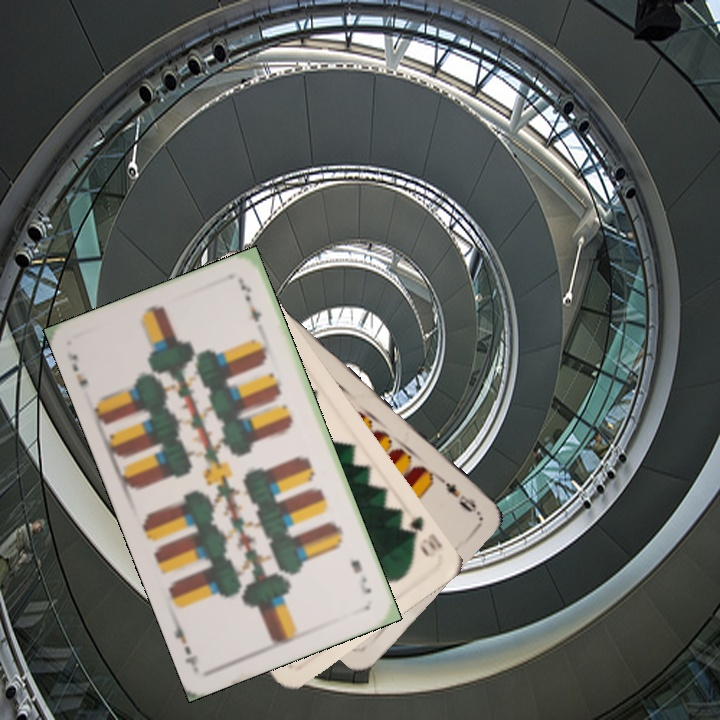E7: (346, 555, 374, 597), (63, 348, 91, 389)
E9: (433, 471, 481, 516)
G10: (396, 511, 445, 561)
